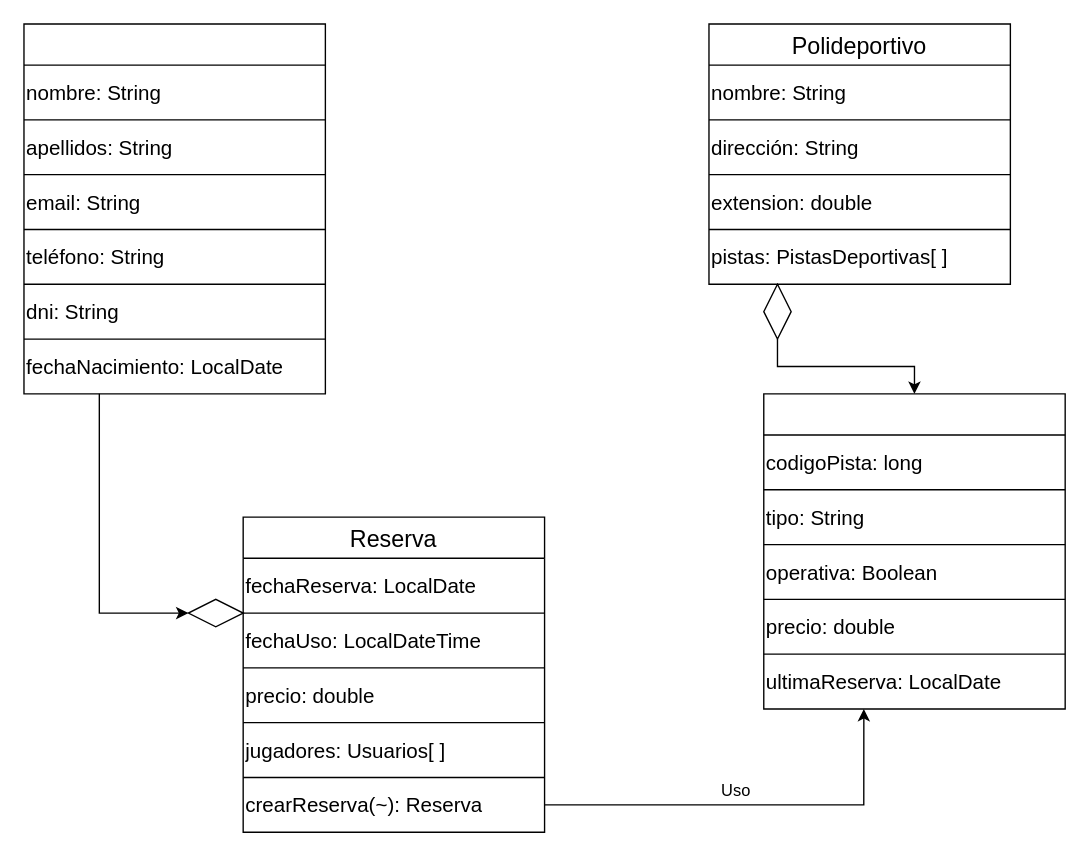
This 1089x856 diagram has some shape labels left out. The shapes that lost their labels are listed below. From the top down, each one's box as (x1, y1, x2, y2) in pixels, then its label:
(23, 23, 325, 394): Usuario
(762, 393, 1065, 709): PistaDeportiva
